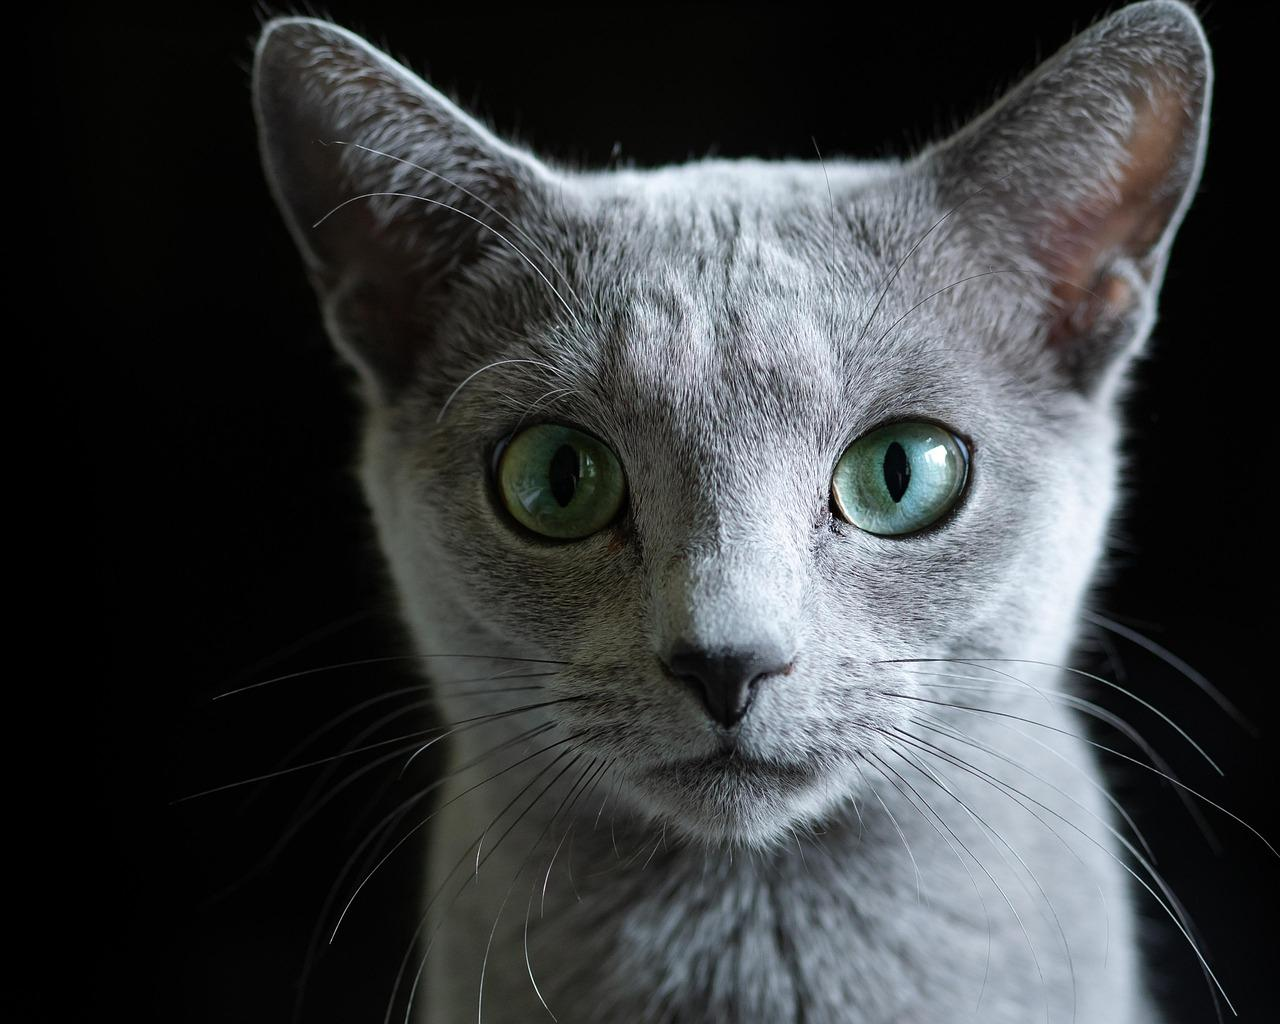cat: (248, 11, 1224, 1024)
